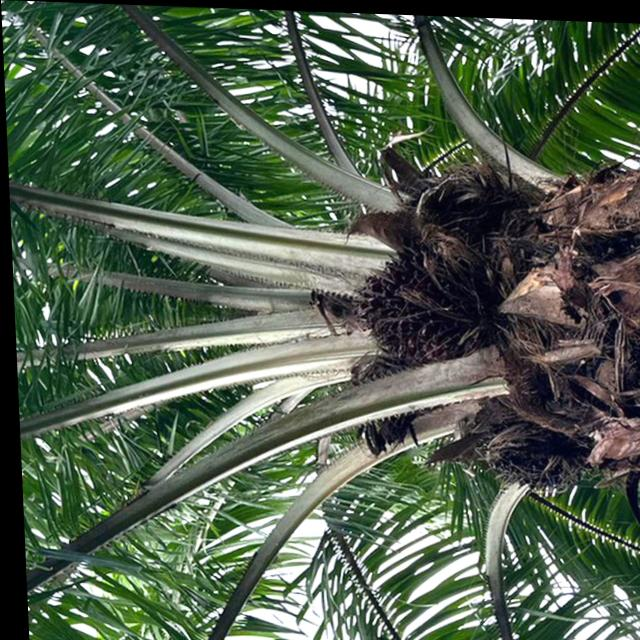almost: (349, 245, 486, 365)
